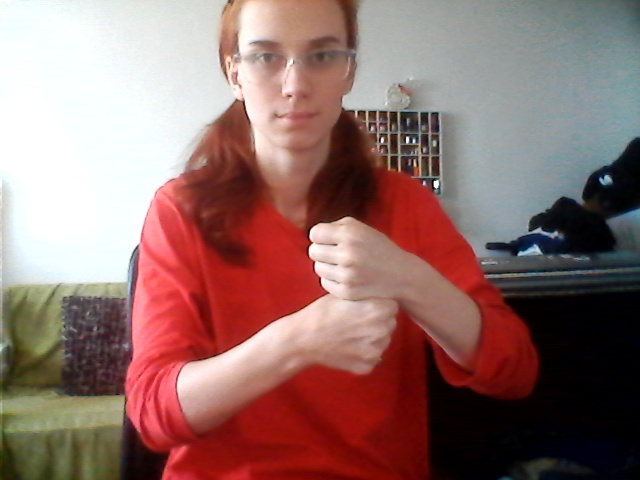g: (283, 208, 411, 387)
